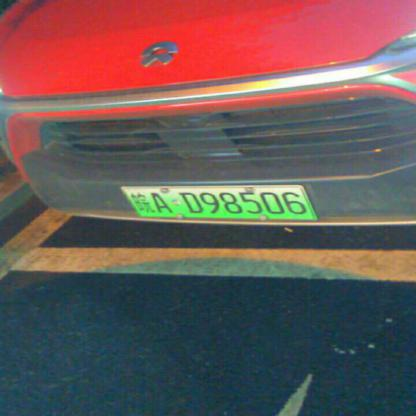lp: (122, 187, 316, 218)
